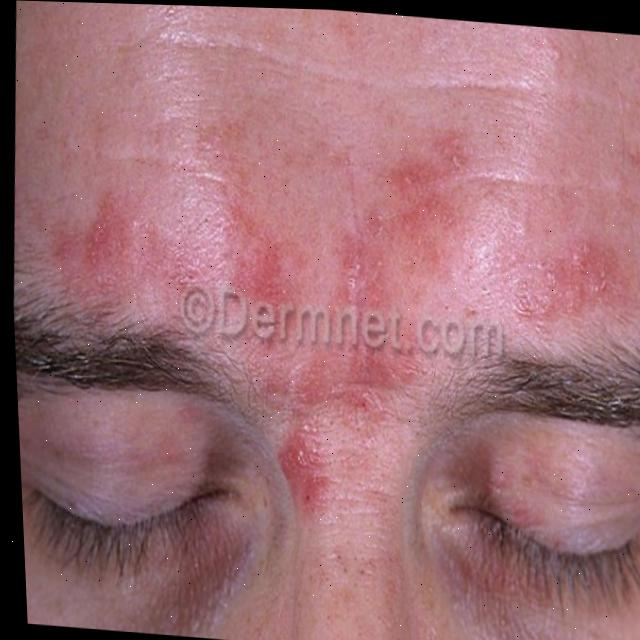Rosacea: (76, 139, 640, 538)
